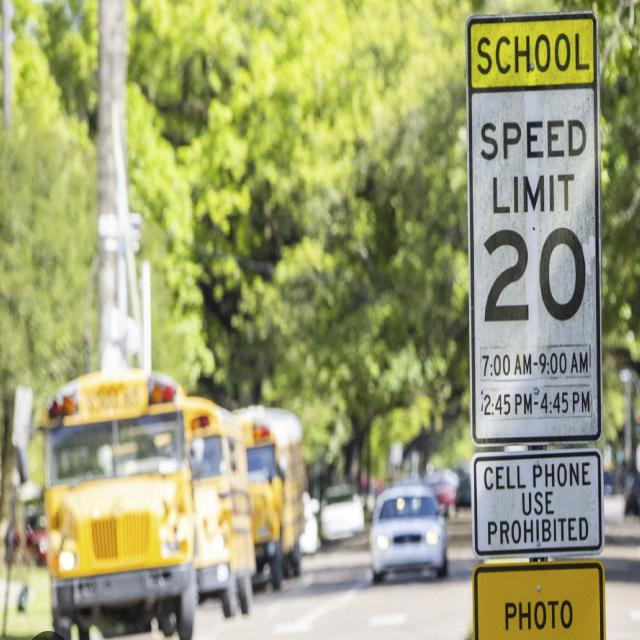speedLimit20: (471, 100, 597, 336)
